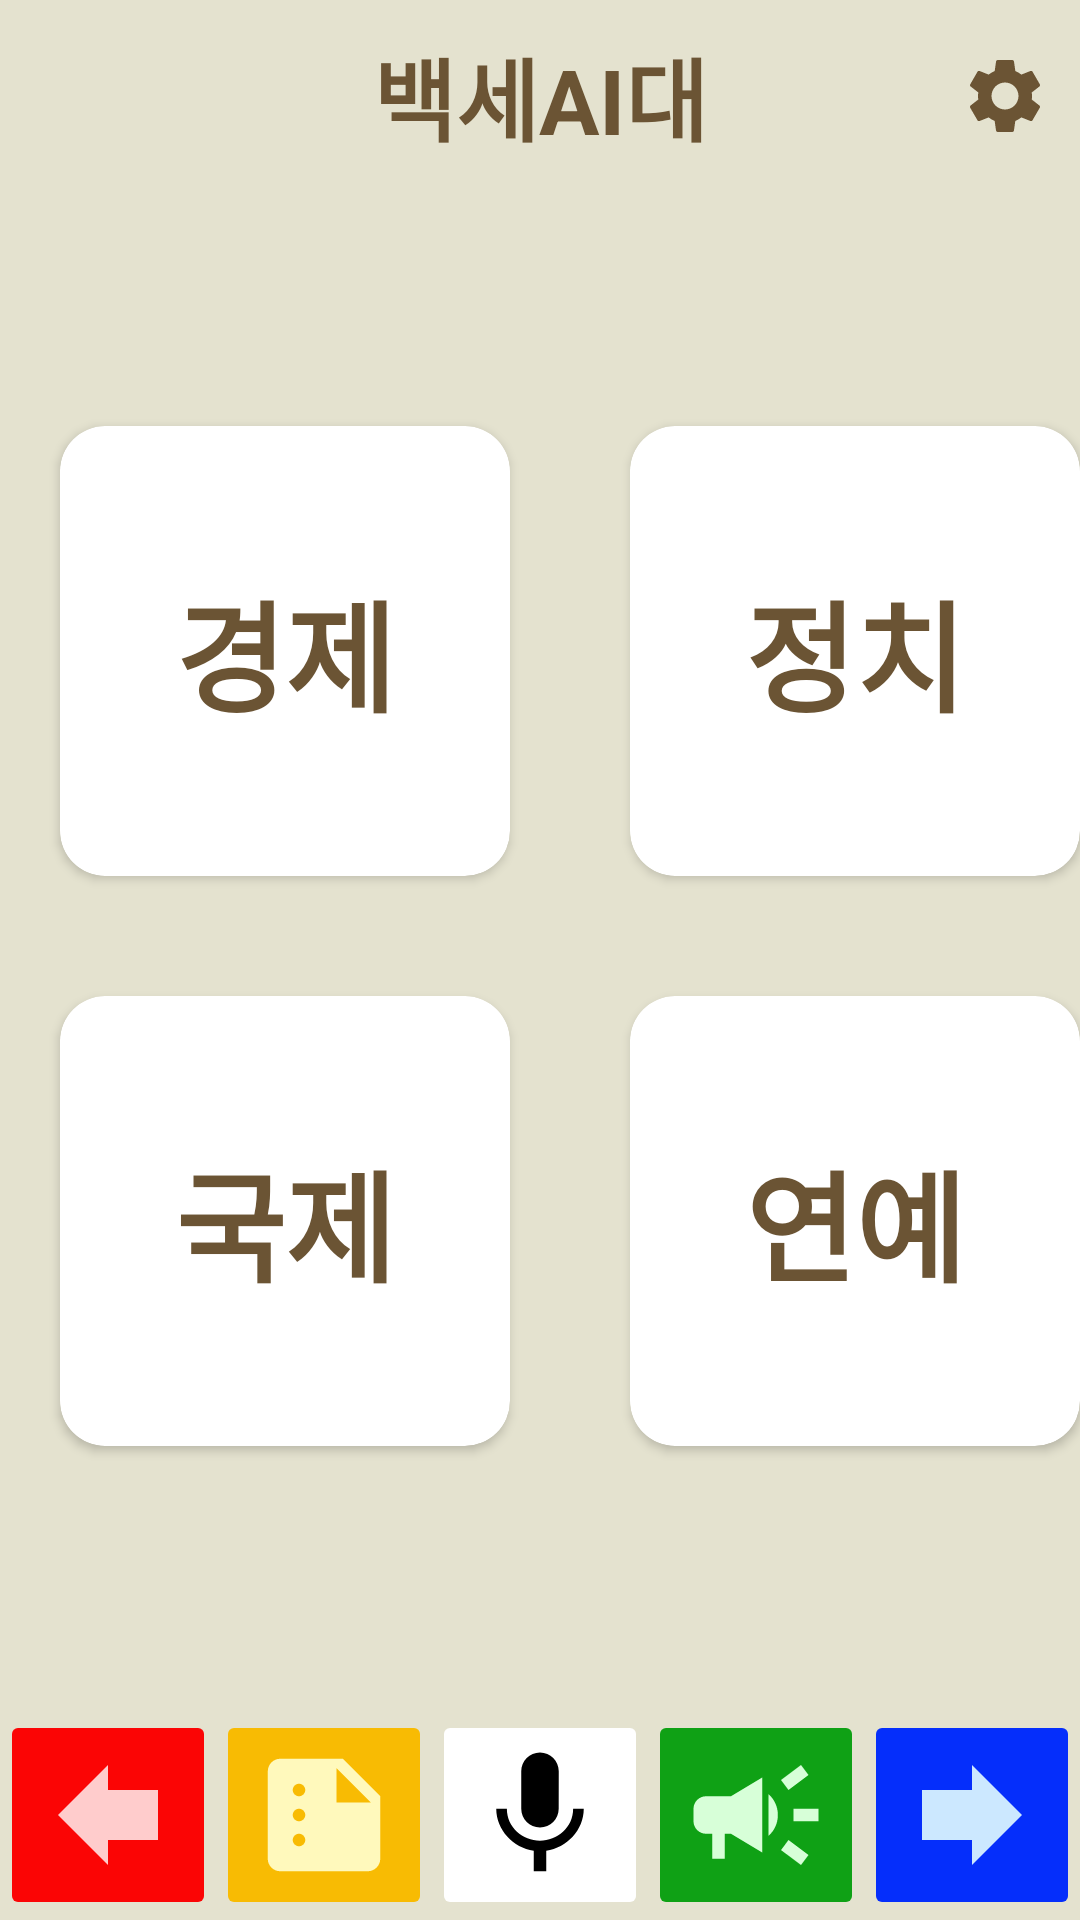

Icon click points for this 1080*1920 phone screenshot, format point (x, y):
campaign: point (756, 1815)
forward: point (972, 1815)
mic: point (540, 1815)
settings: point (1005, 96)
summarize: point (324, 1815)
